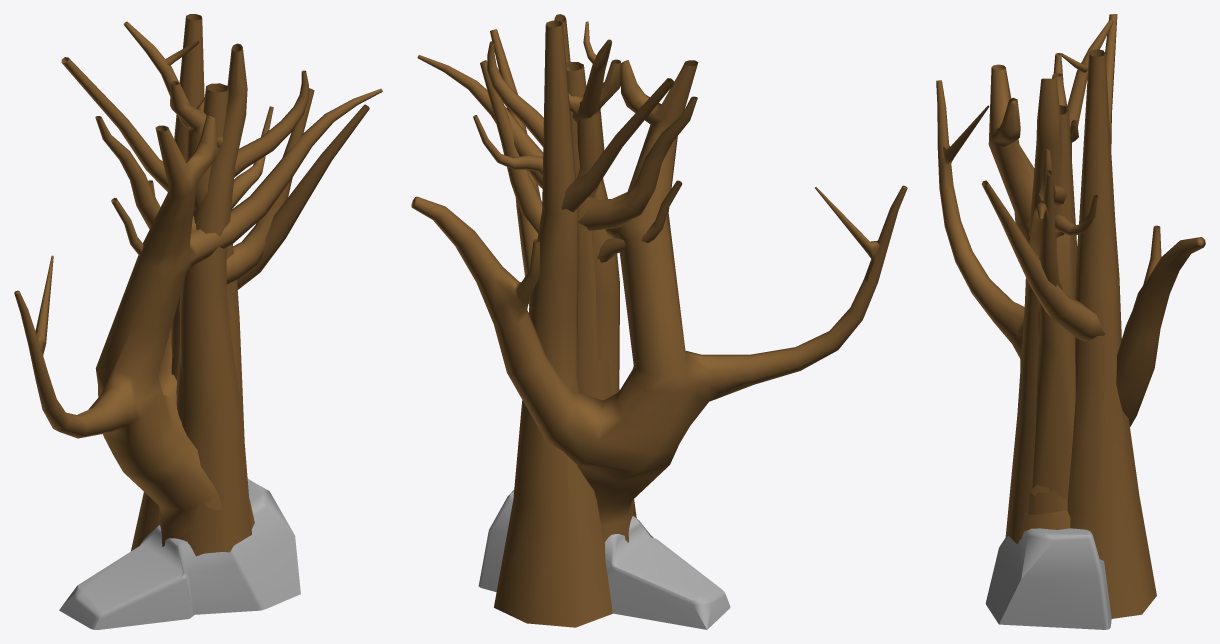
The model's file is WG_BASEBG_ELEMENTS.fbx.
3 renders of one model, left to right at view 1: azimuth 30°, elevation 25°; view 2: azimuth 150°, elevation 25°; view 3: azimuth 270°, elevation 25°, orthographic. The views are drawn at different scales.
Visible parts, largest first — view 1: Tree03, Tree05, Rock03, Tree04, Tree01, Tree02; view 2: Tree03, Tree04, Rock03, Tree01, Tree05, Tree02; view 3: Tree04, Tree03, Rock03, Tree05, Tree02, Tree01.
Boxes of the visible parts, x1,y1,x2,y2 form: Tree03: (14, 88, 382, 548); Tree05: (123, 21, 314, 556); Rock03: (59, 479, 300, 629); Tree04: (61, 14, 369, 550); Tree01: (95, 70, 308, 421); Tree02: (111, 81, 273, 439); Tree03: (411, 55, 907, 542); Tree04: (490, 20, 674, 627); Rock03: (478, 490, 730, 629); Tree01: (487, 41, 697, 400); Tree05: (480, 14, 636, 526); Tree02: (473, 59, 682, 262); Tree04: (981, 14, 1156, 618); Tree03: (936, 64, 1205, 540); Rock03: (985, 528, 1111, 629); Tree05: (1005, 20, 1113, 544); Tree02: (1032, 73, 1097, 499); Tree01: (1028, 53, 1077, 514).
Bounding box in the file's own units: 10.53 × 13.46 × 5.97.
